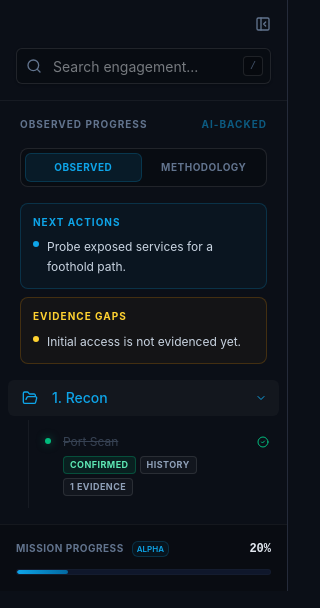
Test case: Sidebar › hides adaptive methodology cards in complete methodology view
Expected: the text "Next Actions" is shown, left=33, top=216, right=120, bottom=228
Click the button "Methodology": (204, 168) left=146, top=153, right=262, bottom=182
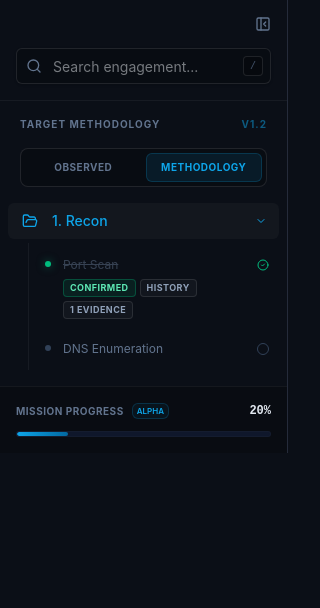
Result: the text "Next Actions" is gone
Result: the text "Evidence Gaps" is gone
Result: the text "DNS Enumeration" is shown at left=63, top=338, right=163, bottom=358
